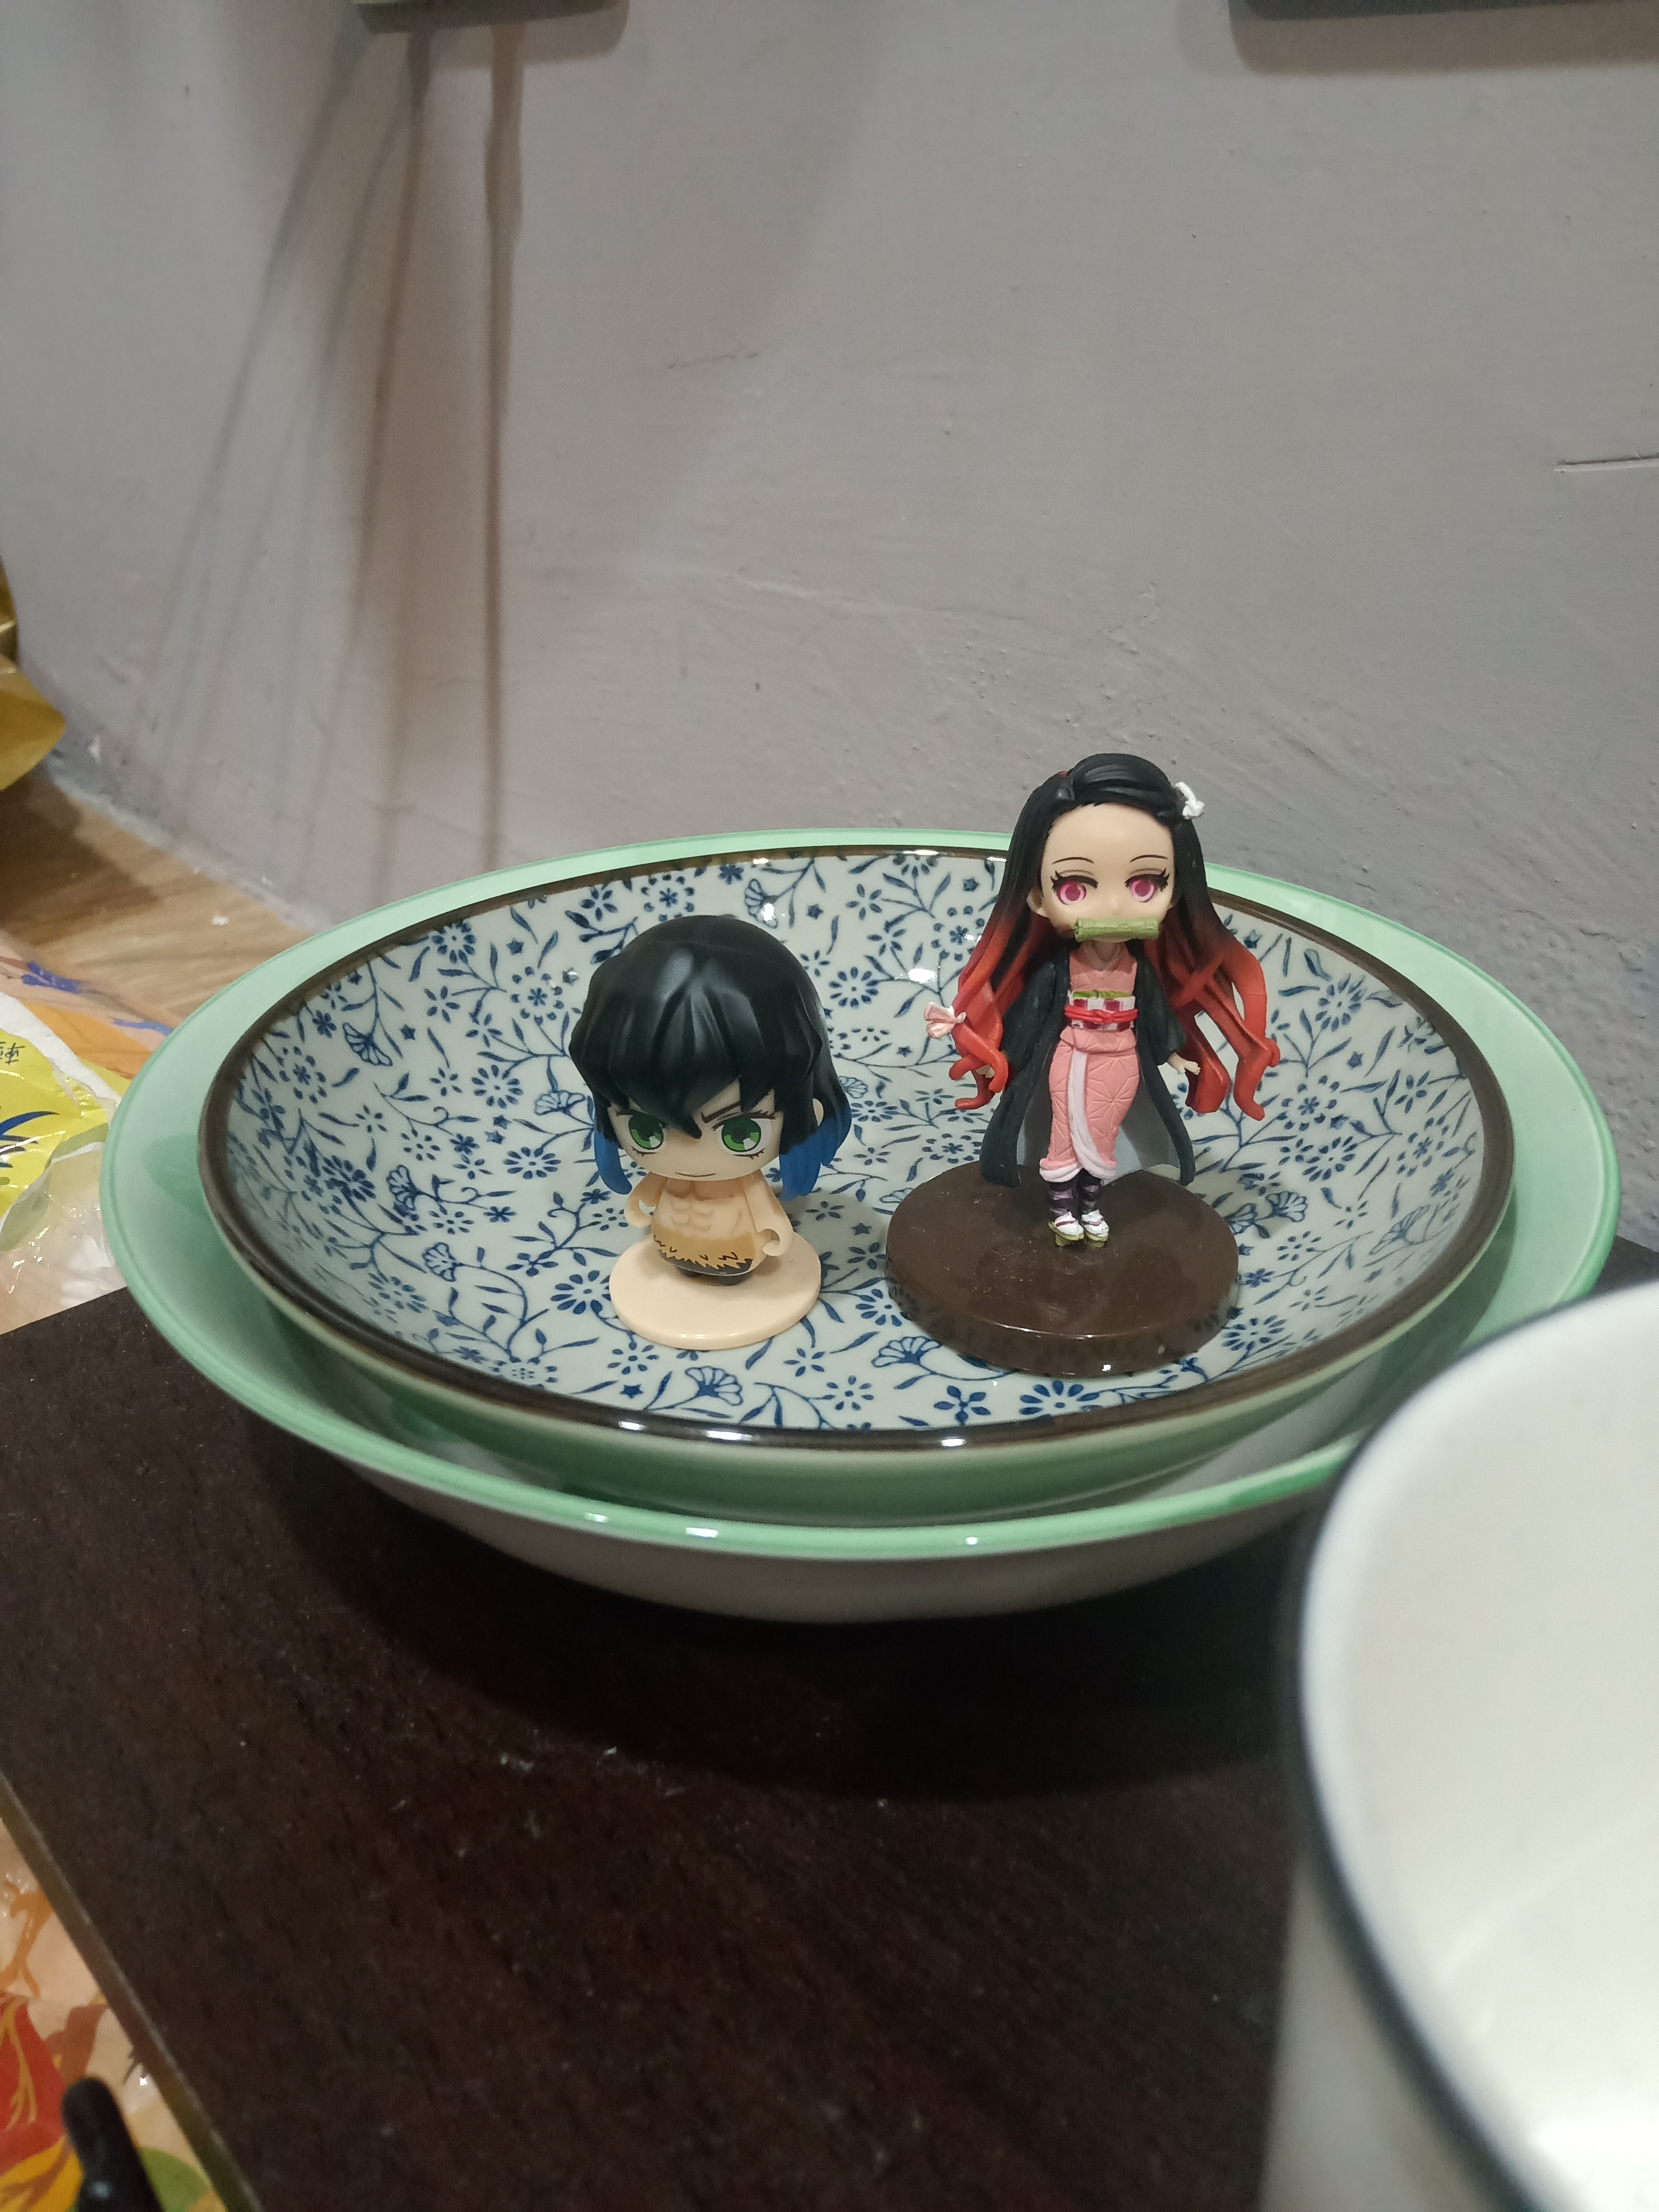Inosuke: (542, 894, 880, 1376)
Nezuko: (880, 737, 1293, 1395)
